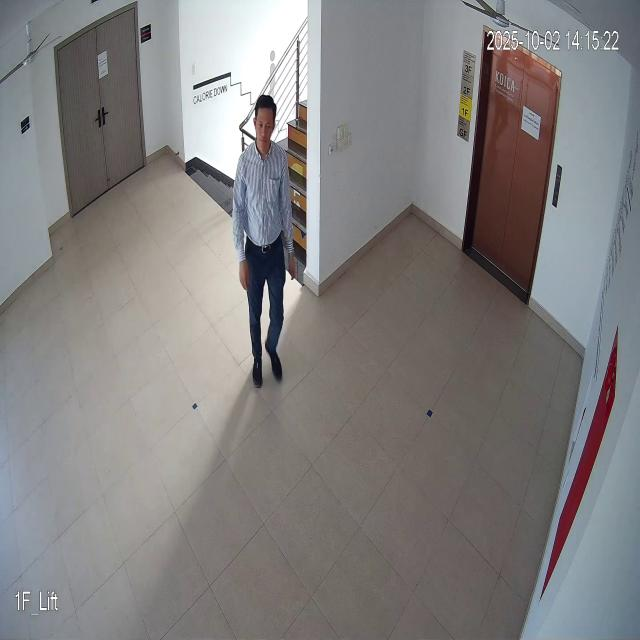face: (250, 88, 281, 154)
